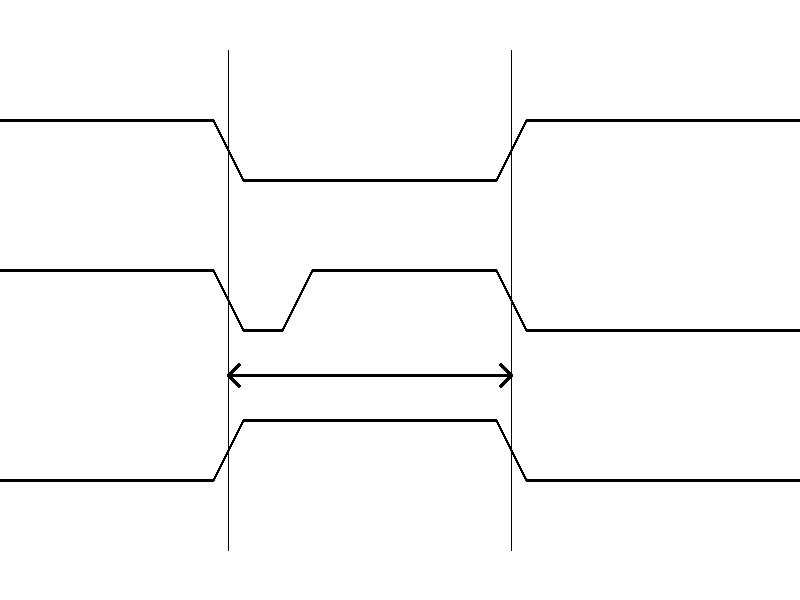double_arrow: (228, 360, 511, 390)
